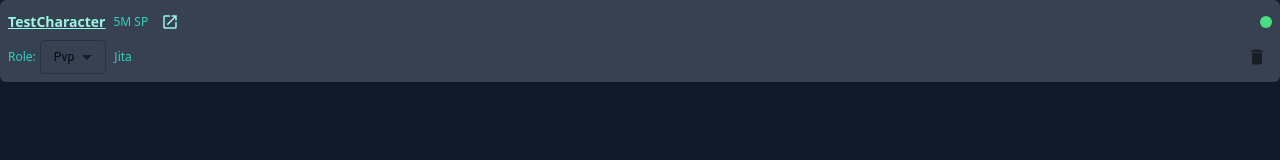
Test: CharacterItem › displays MCT tooltip
Note: Wrap the hover action in act
Hover over the element with test id "mct-indicator" at coordinates (1266, 22), box [1260,16,1272,28]
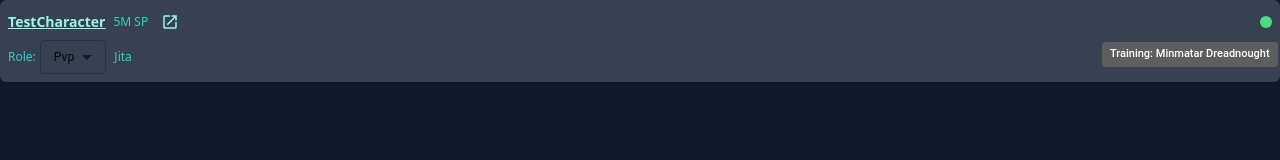
Expected: the text "Training: Minmatar Dreadnought" is shown, [1102,42,1278,66]
